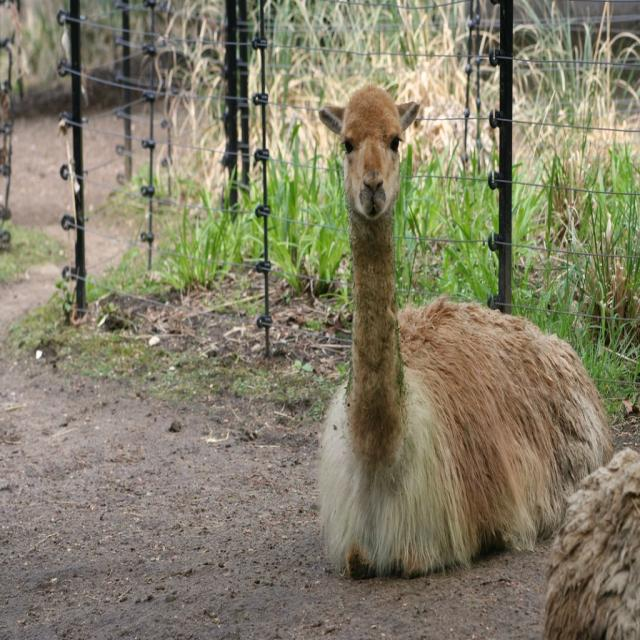alpaca: (318, 82, 613, 574)
